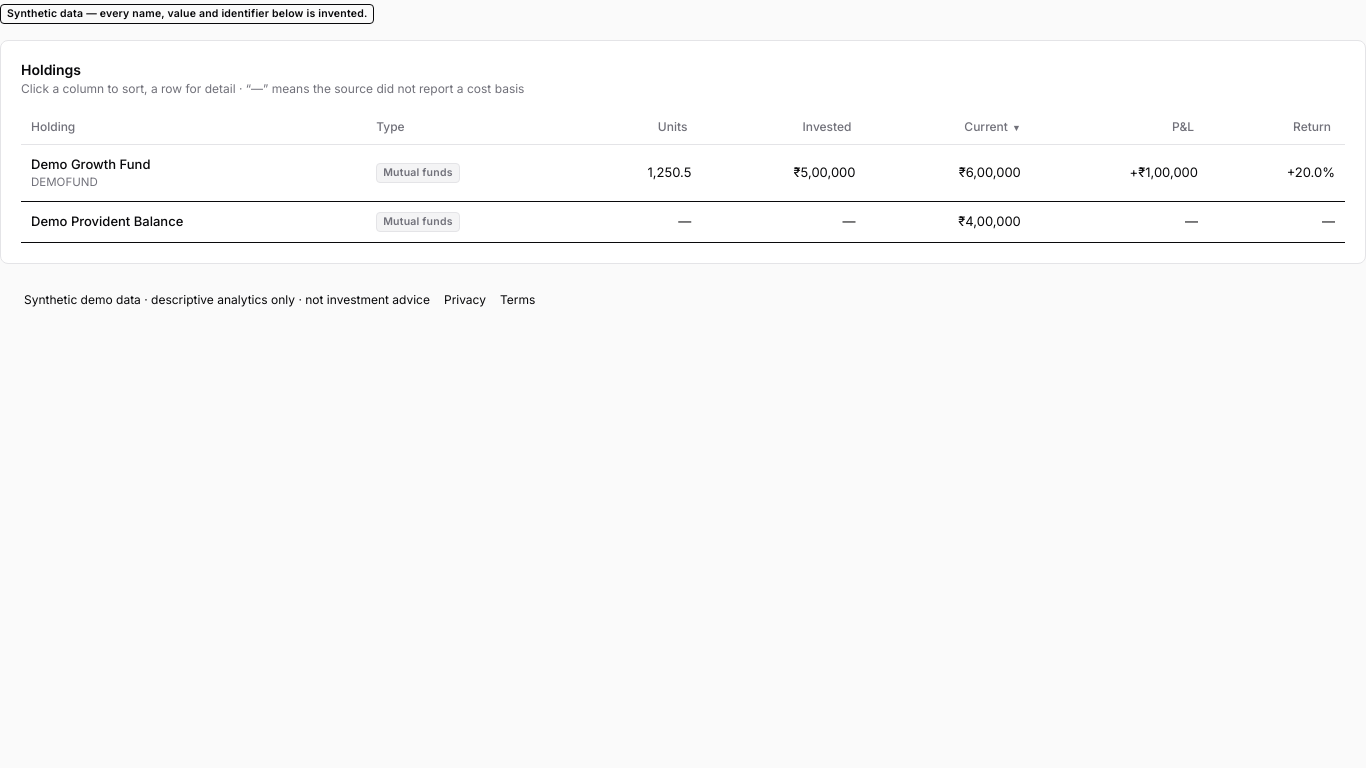
Test case: per-holding detail dialog › labels every gap on a row the source reported without a cost basis
Expected: the text "Demo Growth Fund" is shown, top-left (31, 156), bottom-right (150, 172)
Click the button with aria-label "Details for Demo Provident Balance".
click(683, 222)  # box top-left (21, 202), bottom-right (1345, 243)
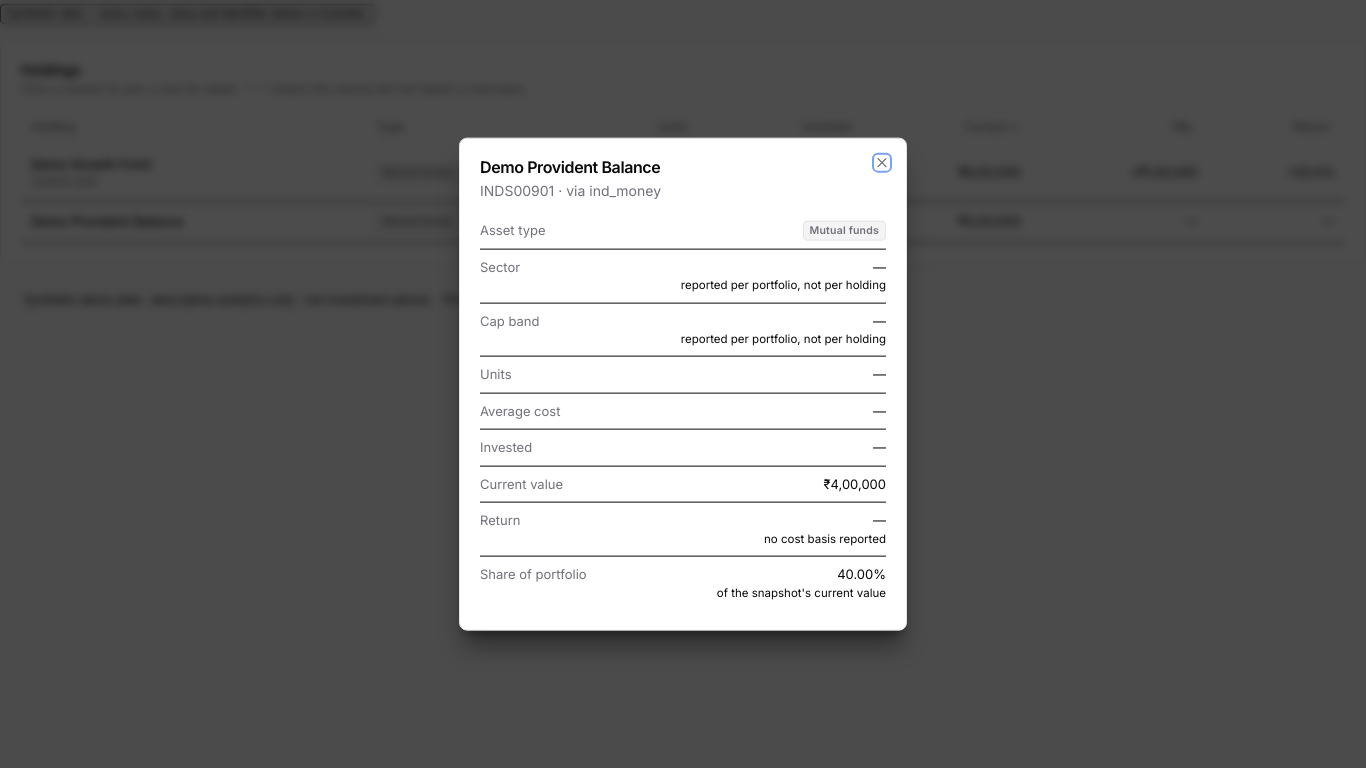
Expected: the dialog is shown, top-left (459, 138), bottom-right (907, 630)
Expected: the 3rd element showing "—" is shown, top-left (873, 438), bottom-right (886, 457)
Expected: the element showing "— no cost basis reported" is shown, top-left (764, 511), bottom-right (886, 548)
